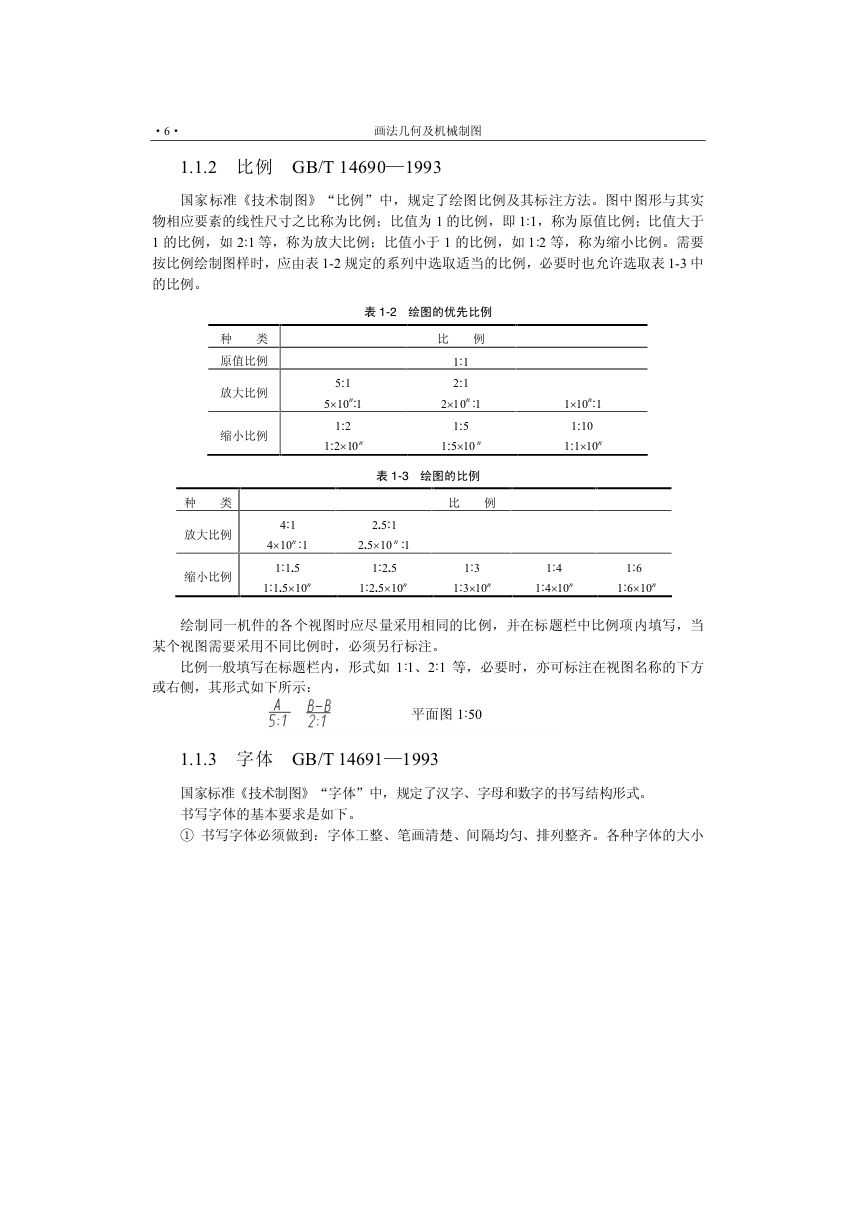table: (207, 324, 647, 455), (175, 487, 672, 597)
